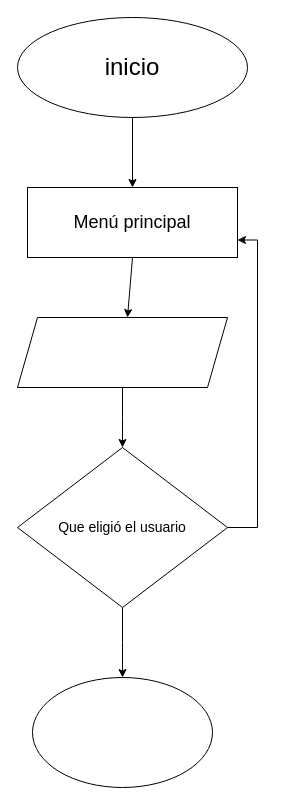
Image size: 283x805. Some labels were removed from this diagram. The centre of each missing label's shape, as x and y in pixels:
"Entrada del usuario" belongs at point (122, 352).
"FIn" belongs at point (122, 732).
